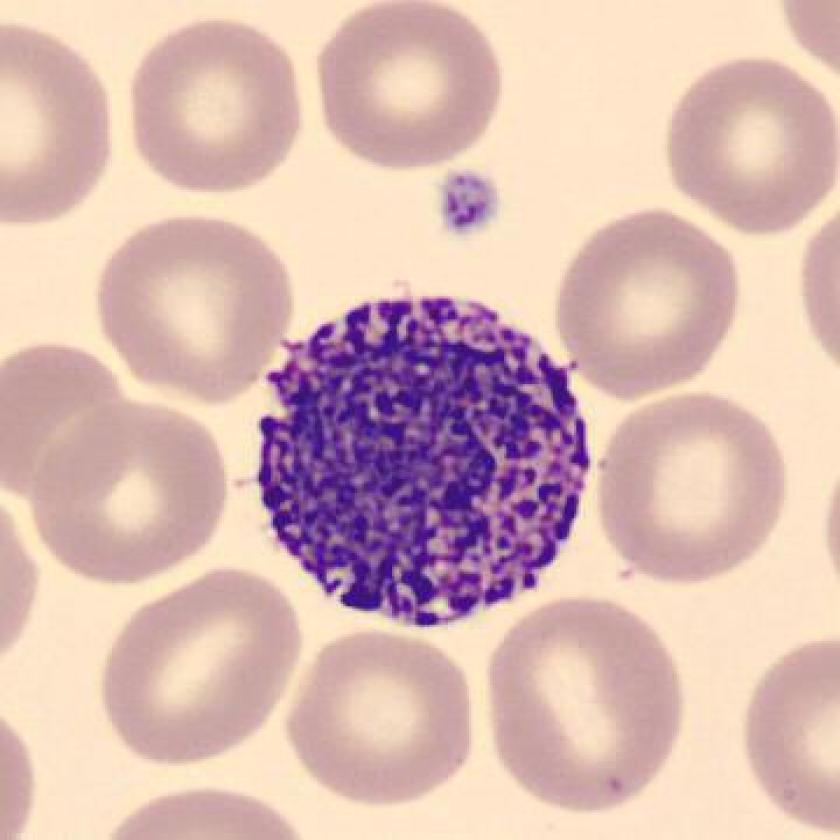basophil: (246, 290, 603, 633)
